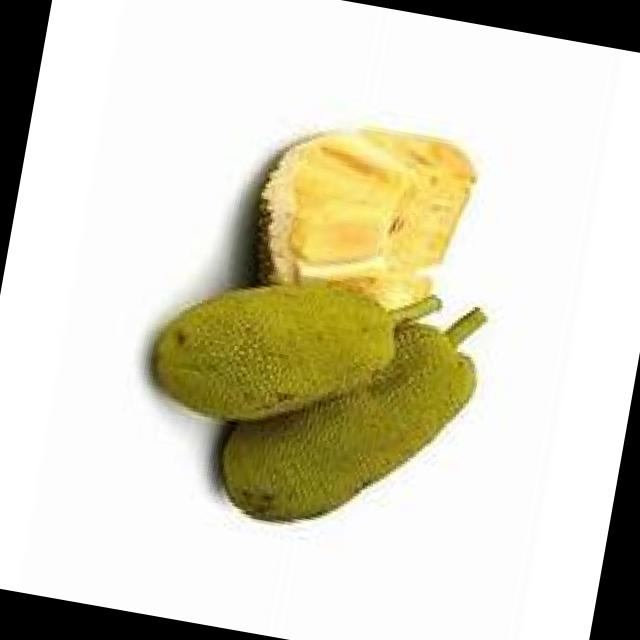Fruit: (98, 209, 514, 576)
